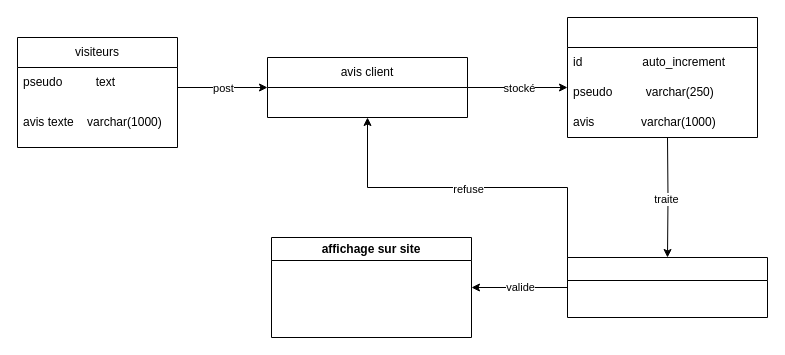
Image size: 785x355. Some labels were removed from this diagram. The box of each missing label's shape, as (x1, y1, x2, y2) in pixels:
base de données: (566, 16, 758, 138)
employé du zoo: (566, 256, 768, 318)
